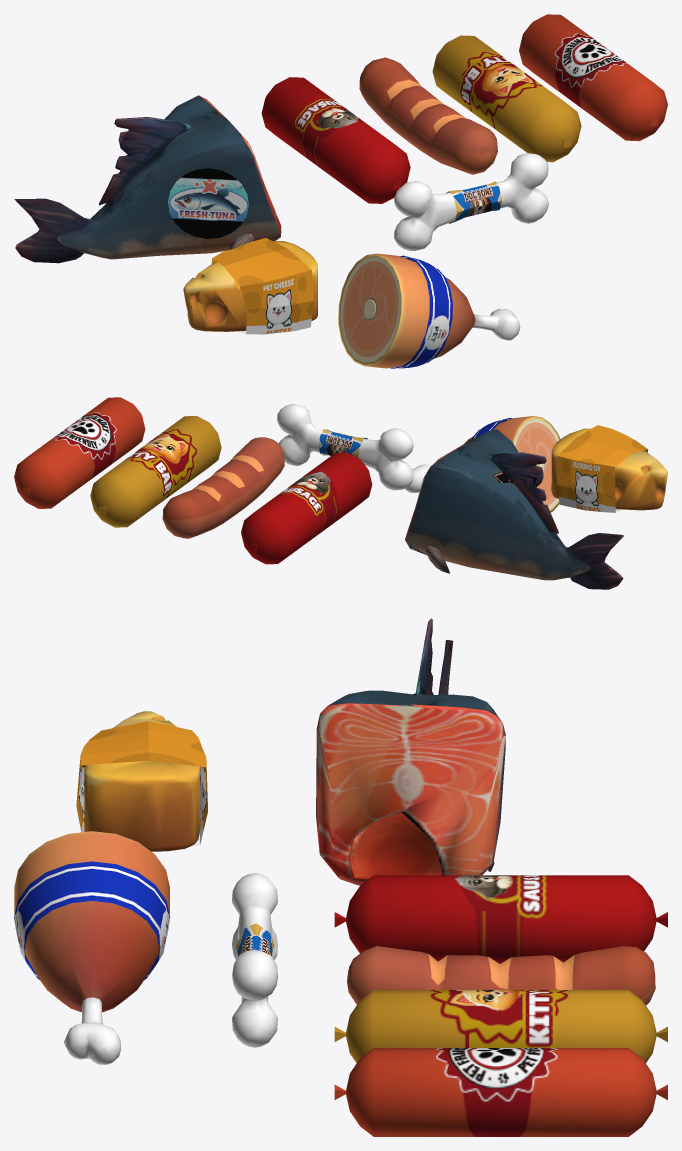
Rendered from pet 8.fbx.
3 renders of one model, top to bottom at view 1: azimuth 30°, elevation 25°; view 2: azimuth 150°, elevation 25°; view 3: azimuth 270°, elevation 25°, orthographic. The views are drawn at different scales.
Visible parts, largest first — view 1: Cube.018_Material.009_0, Ham__0, Cheese.002_Cheese_0, Sausage 1_Sausage 1_0.004, Sausage 1_Sausage 1_0, Sausage 1_Sausage 1_0.003, pCylinder1_lambert2_0, Object_2.007, Circle; view 2: Cube.018_Material.009_0, Cheese.002_Cheese_0, Sausage 1_Sausage 1_0.004, Sausage 1_Sausage 1_0.003, Sausage 1_Sausage 1_0, pCylinder1_lambert2_0, Object_2.007, Ham__0; view 3: Cube.018_Material.009_0, Sausage 1_Sausage 1_0.004, Ham__0, Sausage 1_Sausage 1_0, Sausage 1_Sausage 1_0.003, Cheese.002_Cheese_0, pCylinder1_lambert2_0, Object_2.007.
Boxes of the visible parts, x1,y1,x2,y2 form: Cube.018_Material.009_0: (14, 95, 281, 263); Ham__0: (338, 253, 520, 368); Cheese.002_Cheese_0: (183, 238, 317, 334); Sausage 1_Sausage 1_0.004: (519, 14, 667, 141); Sausage 1_Sausage 1_0: (261, 77, 410, 203); Sausage 1_Sausage 1_0.003: (432, 35, 581, 162); pCylinder1_lambert2_0: (359, 57, 497, 174); Object_2.007: (394, 153, 548, 251); Circle: (168, 168, 248, 238); Cube.018_Material.009_0: (405, 429, 623, 589); Cheese.002_Cheese_0: (551, 425, 667, 512); Sausage 1_Sausage 1_0.004: (14, 397, 145, 508); Sausage 1_Sausage 1_0.003: (90, 416, 221, 527); Sausage 1_Sausage 1_0: (241, 452, 372, 564); pCylinder1_lambert2_0: (162, 437, 284, 538); Object_2.007: (277, 404, 413, 490); Ham__0: (405, 416, 560, 512); Cube.018_Material.009_0: (316, 618, 505, 885); Sausage 1_Sausage 1_0.004: (334, 1048, 667, 1136); Ham__0: (14, 831, 170, 1064); Sausage 1_Sausage 1_0: (334, 875, 667, 963); Sausage 1_Sausage 1_0.003: (334, 990, 667, 1062); Cheese.002_Cheese_0: (76, 711, 207, 851); pCylinder1_lambert2_0: (347, 946, 655, 1005); Object_2.007: (231, 873, 277, 1047).
Size of the model in its own units: 122 by 36.14 by 80.39.
1 material, 1 textured.
